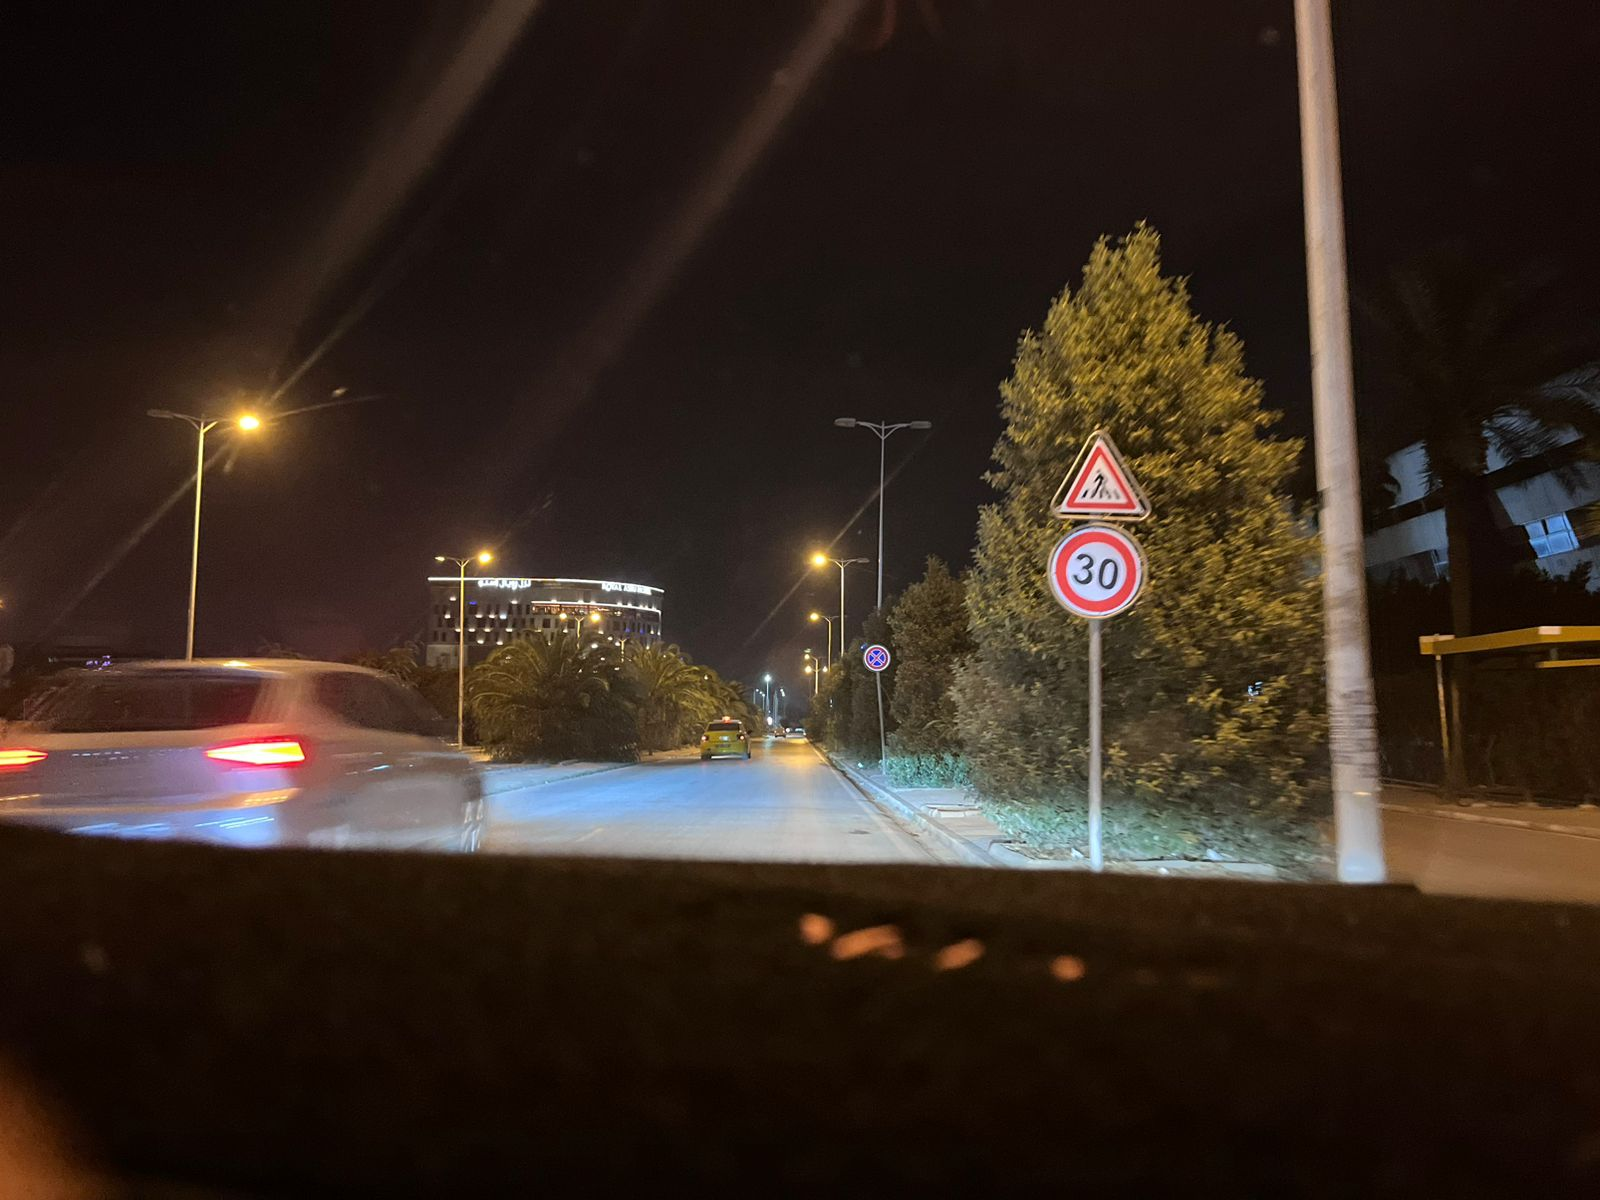SpeedLimit30: (1046, 521, 1147, 621)
